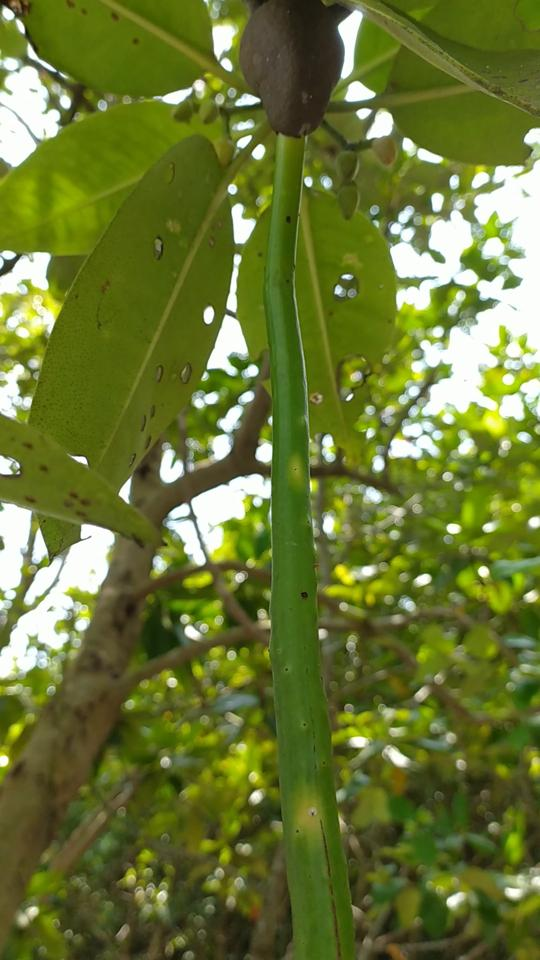mentah: (219, 1, 382, 956)
